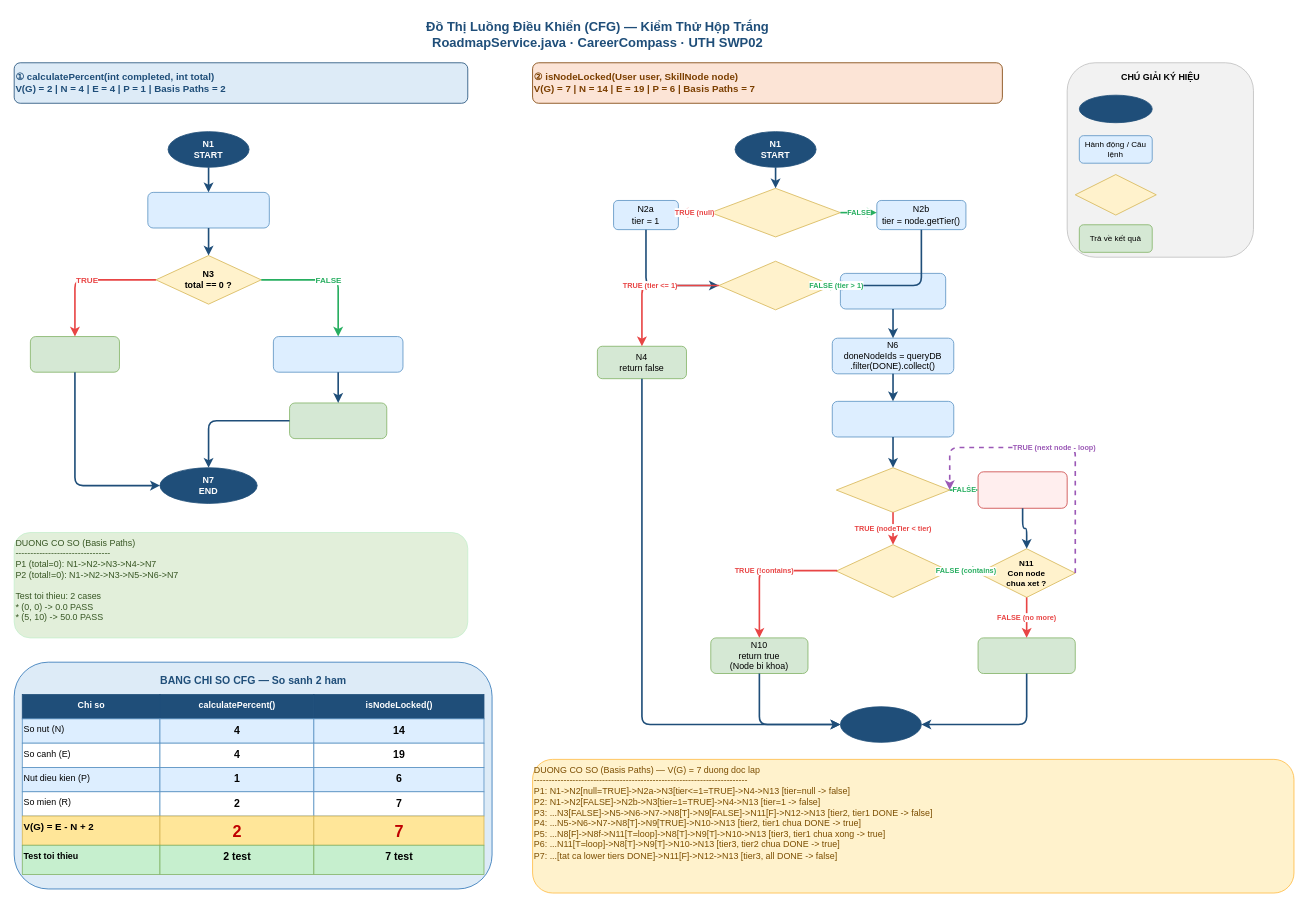
Some shapes in this 1308 by 907 pixel diagram are drawn without their labels. Here are the shapes that lost their labels. From the top down, the box of each, then its label:
(1079, 94, 1152, 123): START / END
(147, 192, 269, 228): N2 Nhận (completed, total)
(710, 188, 840, 237): N2 node.getTier() == null ?
(1074, 174, 1156, 215): Điều kiện (Predicate)
(718, 260, 832, 310): N3 tier <= 1 ?
(840, 273, 946, 309): N5 templateId = node .getTemplate().getId()
(30, 336, 119, 372): N4 return 0.0
(273, 336, 403, 372): N5 Math.round(completed x 10000.0 / total) / 100.0
(289, 402, 387, 439): N6 return result
(831, 401, 954, 437): N7 allNodes = skillNodeRepo .findByTemplateId()
(836, 467, 950, 512): N8 nodeTier < tier ?
(977, 471, 1067, 508): N8f Bỏ qua node (tier >= current tier)
(836, 544, 950, 597): N9 !doneNodeIds .contains(n.getId()) ?
(977, 637, 1075, 674): N12 return false (Khong bi khoa)
(840, 706, 921, 742): N13 END
